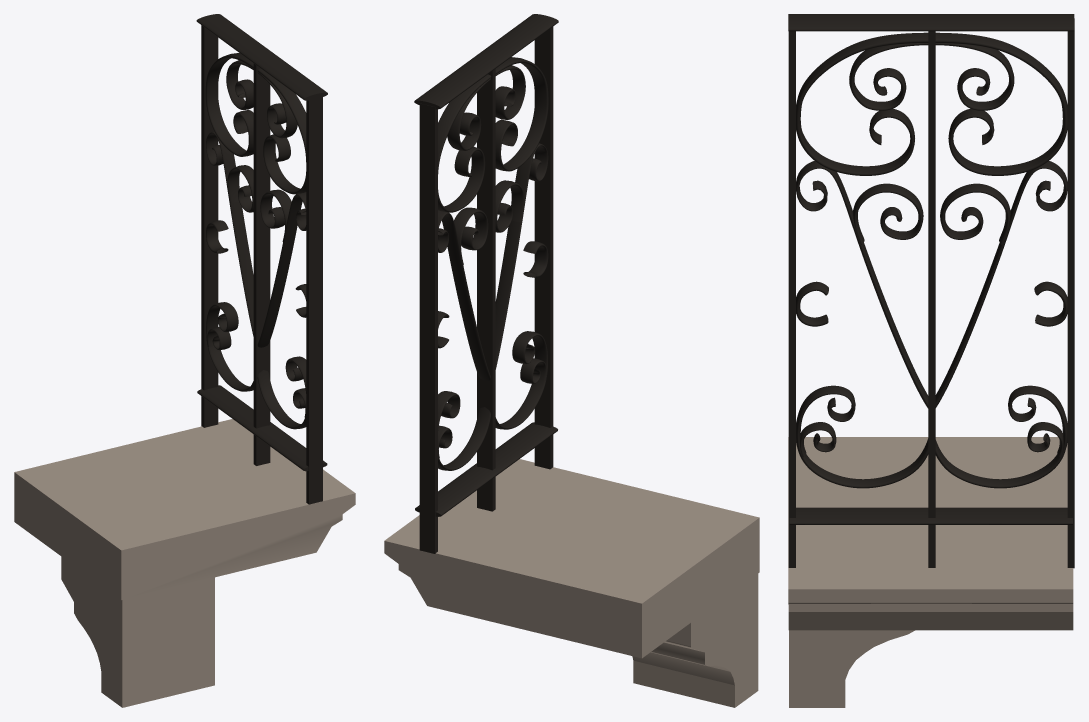
Rendered from Left_Back_side_spiral_balcony.fbx.
3 renders of one model, left to right at view 1: azimuth 30°, elevation 25°; view 2: azimuth 150°, elevation 25°; view 3: azimuth 270°, elevation 25°, orthographic. The views are drawn at different scales.
Visible parts, largest first — view 1: polySurface166; view 2: polySurface166; view 3: polySurface166.
Boxes of the visible parts, <box> form: polySurface166: <box>14,14,355,707</box>; polySurface166: <box>384,14,759,707</box>; polySurface166: <box>788,14,1074,707</box>.
Size of the model in its own units: 2.54 by 5.86 by 2.02.
